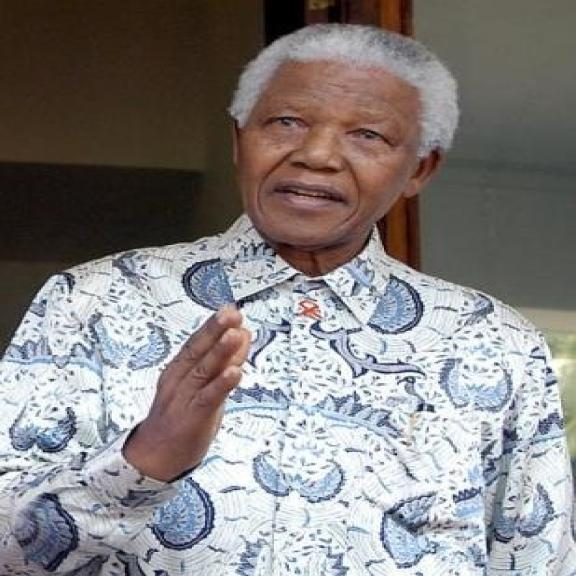face: (222, 34, 448, 254)
